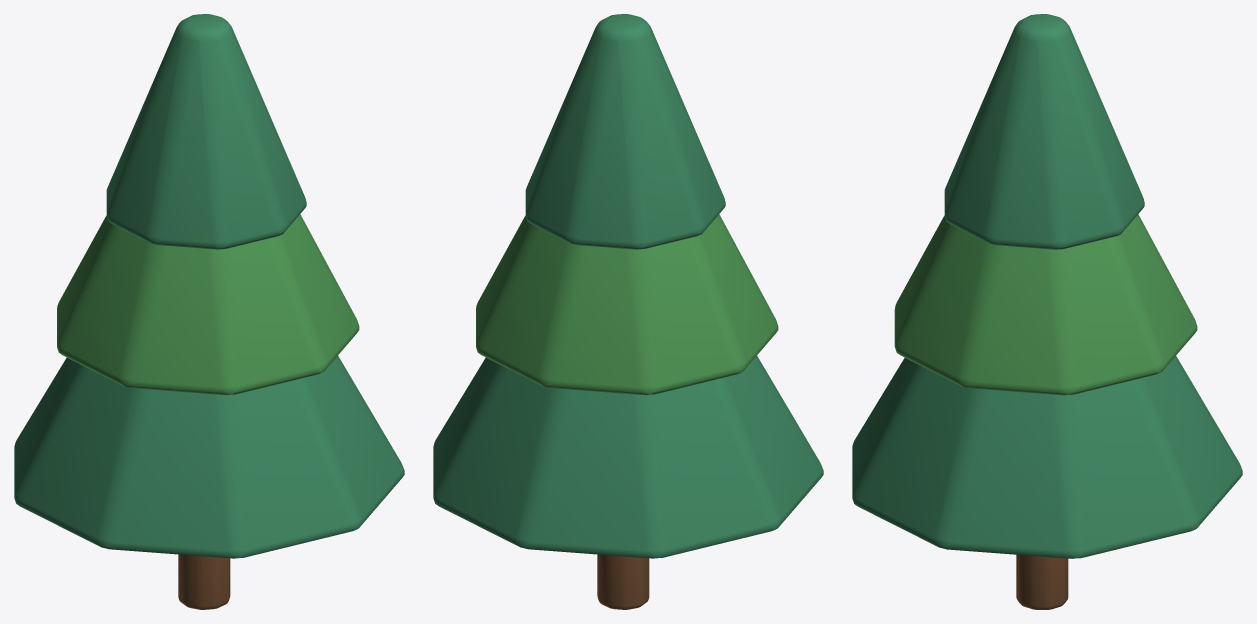
File: arvore_cone.glb
3 renders of one model, left to right at view 1: azimuth 30°, elevation 25°; view 2: azimuth 150°, elevation 25°; view 3: azimuth 270°, elevation 25°, orthographic.
Visible parts, largest first — view 1: Cone, Cone.001, Cone.002, Cylinder; view 2: Cone, Cone.001, Cone.002, Cylinder; view 3: Cone, Cone.001, Cone.002, Cylinder.
Boxes of the visible parts, x1,y1,x2,y2 form: Cone: (14,356,404,558); Cone.001: (57,214,359,395); Cone.002: (106,14,306,249); Cylinder: (178,554,230,609); Cone: (433,356,823,558); Cone.001: (476,214,778,395); Cone.002: (525,14,725,249); Cylinder: (597,554,649,609); Cone: (852,356,1242,558); Cone.001: (894,214,1197,395); Cone.002: (944,14,1144,249); Cylinder: (1016,554,1068,609).
Bounding box in the file's own units: 2.03 × 3.28 × 2.
